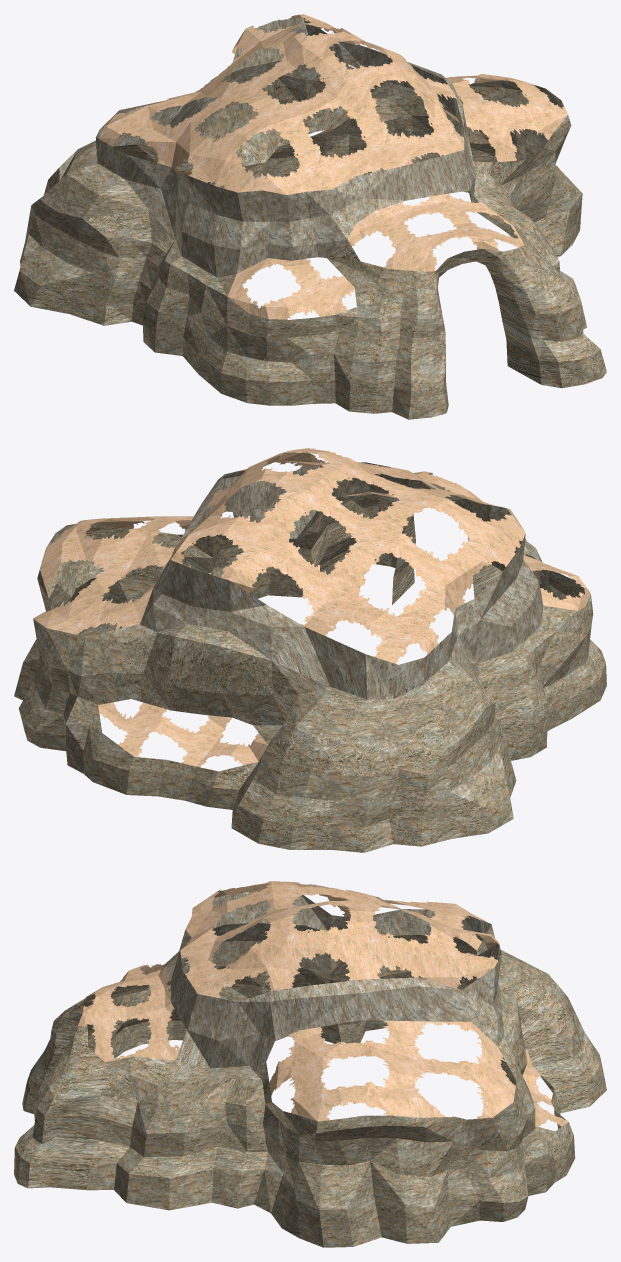
Rendered from poi_all_lair_cave_small_light_r0_mesh_l0.fbx.
The picture shows the model from 3 angles, top to bottom: view 1: azimuth 30°, elevation 25°; view 2: azimuth 150°, elevation 25°; view 3: azimuth 270°, elevation 25°; orthographic projection. The views are drawn at different scales.
Visible parts, largest first — view 1: mesh_node; view 2: mesh_node; view 3: mesh_node.
Boxes of the visible parts, box(x1,y1,x2,y2) form: mesh_node: box(14, 14, 606, 419); mesh_node: box(14, 448, 606, 852); mesh_node: box(14, 881, 606, 1247).
Size of the model in its own units: 24.68 by 11.37 by 26.49.
